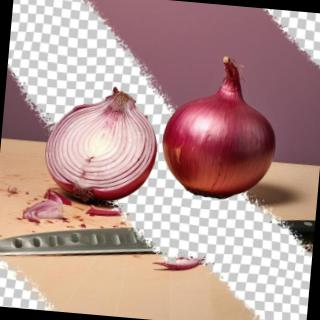Bawang Merah: (156, 50, 286, 209), (39, 81, 165, 213)
